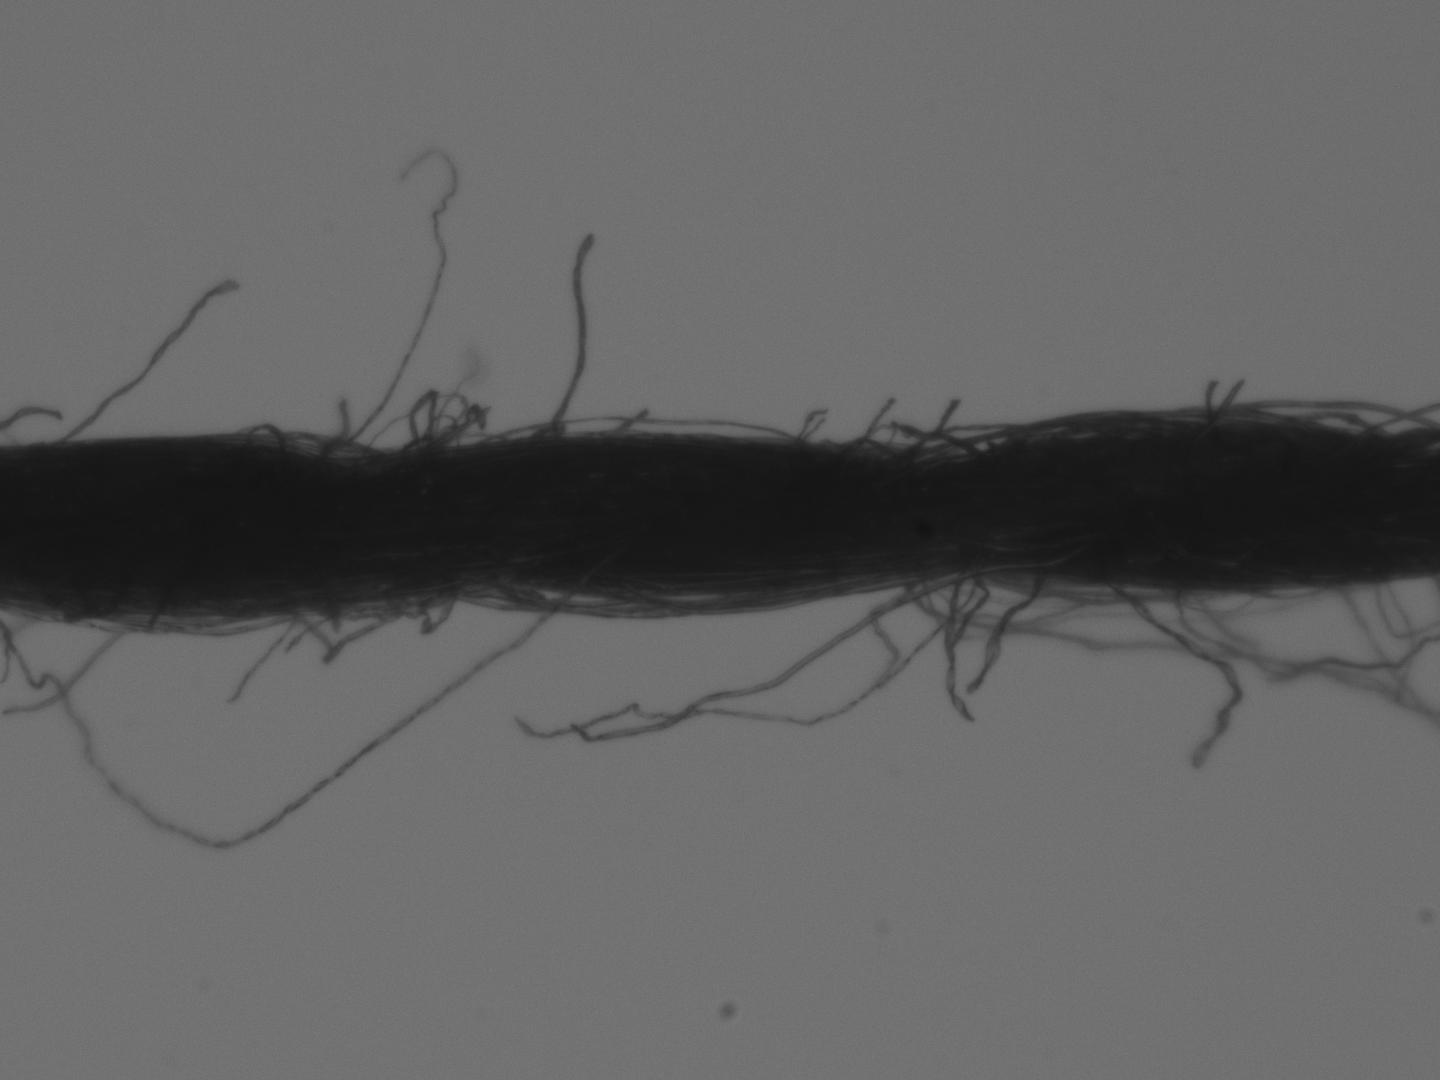loop_fiber: (901, 566, 992, 726), (495, 575, 847, 616), (273, 596, 393, 665), (225, 420, 381, 463), (399, 385, 493, 456), (1171, 579, 1338, 614), (900, 419, 1026, 465), (1272, 404, 1381, 440), (396, 582, 460, 638), (829, 430, 896, 464)
protruding_fiber: (1093, 567, 1247, 769), (56, 269, 236, 441), (528, 227, 599, 446)
